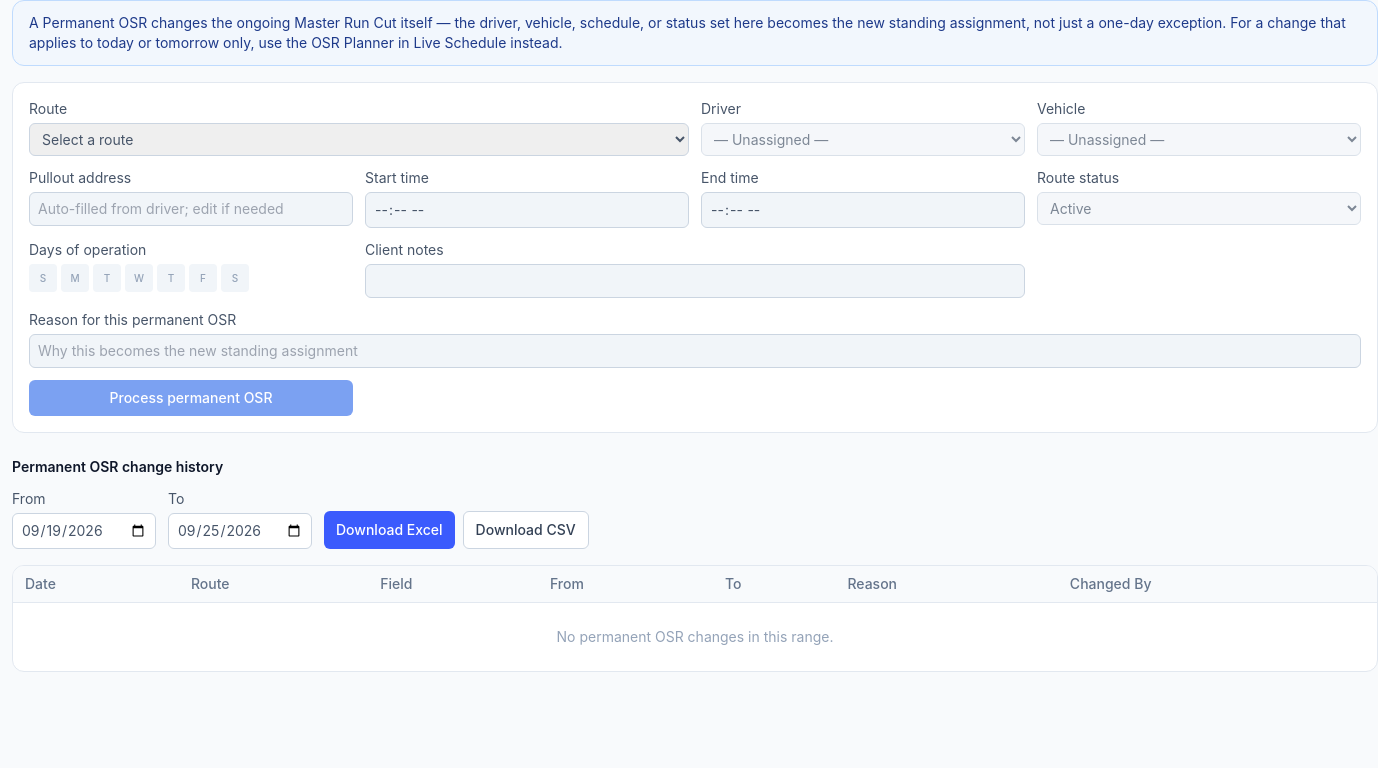
Scenario: a permanent OSR requires a route and a reason before it can be processed
Expected: the button "Process permanent OSR" is disabled, [29,380,353,416]
Select "1029-B" in the dropdown labelled "Route" at (359, 140), box [29,123,689,156]
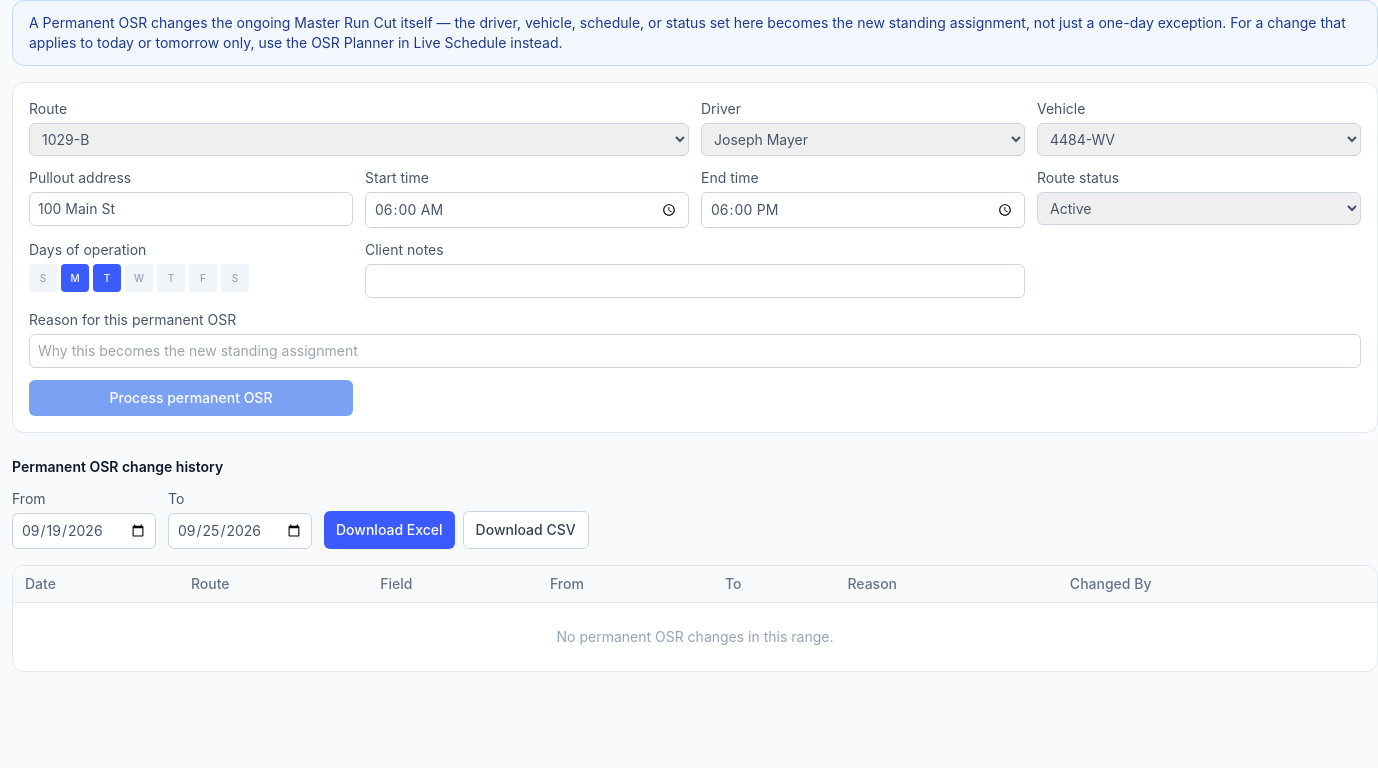
Expected: the button "Process permanent OSR" is disabled, [29,380,353,416]
Type "Client requested a change" into the field labelled "Permanent OSR reason" at (695, 351), box [29,334,1361,368]
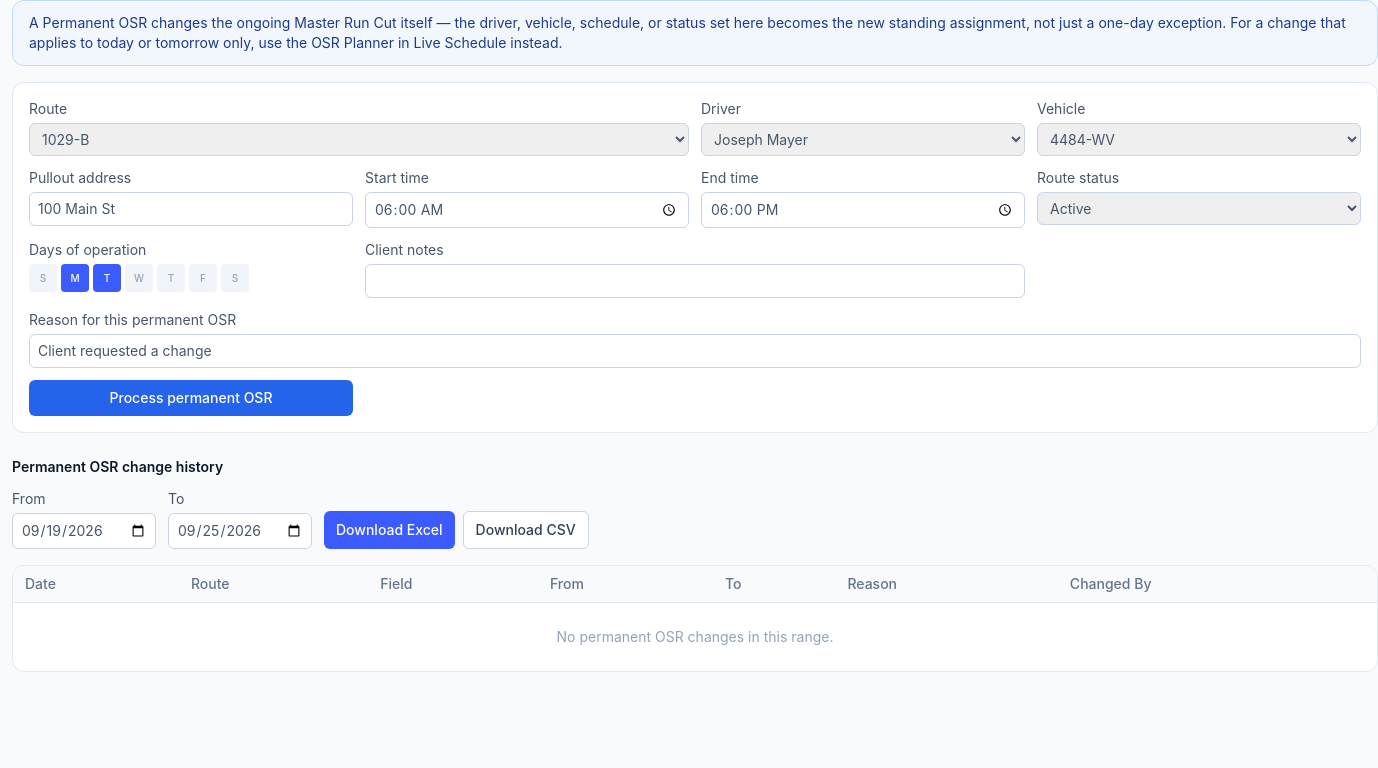
Expected: the button "Process permanent OSR" is enabled, [29,380,353,416]
